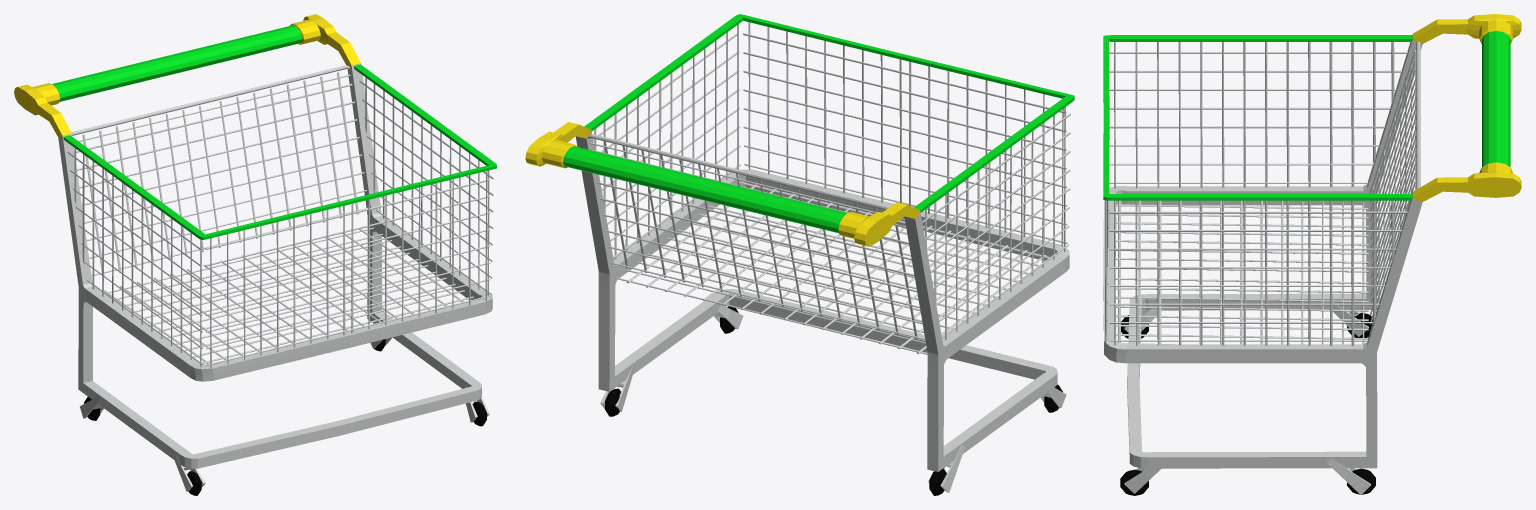
The model's file is carrinho (3).fbx.
The picture shows the model from 3 angles, left to right: view 1: azimuth 30°, elevation 25°; view 2: azimuth 150°, elevation 25°; view 3: azimuth 270°, elevation 25°; orthographic projection. The views are drawn at different scales.
Visible parts, largest first — view 1: Cylinder; view 2: Cylinder; view 3: Cylinder.
Part boxes in pixels (x1=…): Cylinder: x1=14, y1=14, x2=496, y2=495; Cylinder: x1=525, y1=14, x2=1074, y2=495; Cylinder: x1=1103, y1=14, x2=1521, y2=495.
Size of the model in its own units: 206 by 186 by 219.
